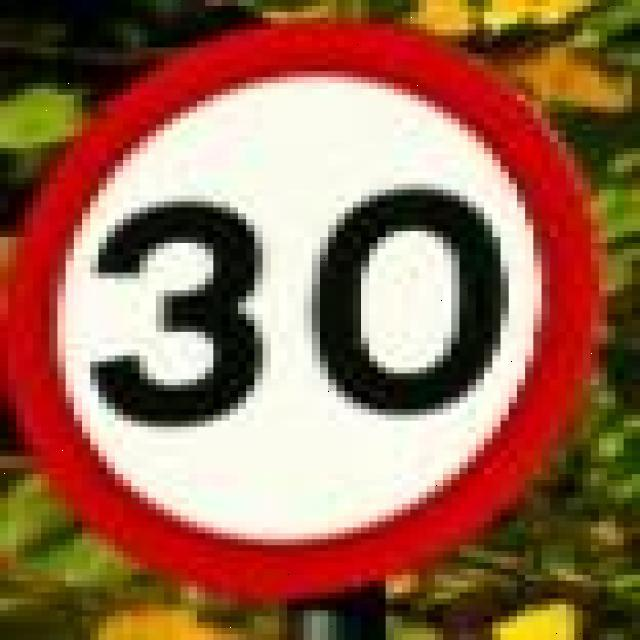speed limit 30: (2, 23, 591, 599)
